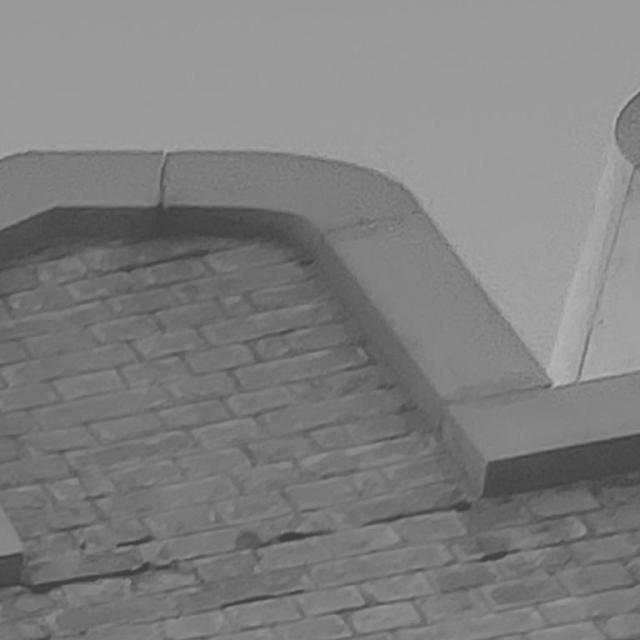crack: (1, 558, 181, 592), (359, 498, 473, 526), (257, 528, 333, 548)
